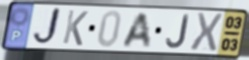0: (96, 9, 125, 50)
A: (120, 11, 152, 49)
J: (31, 7, 64, 48), (165, 14, 190, 50)
K: (61, 9, 90, 47)
X: (188, 12, 225, 53)
